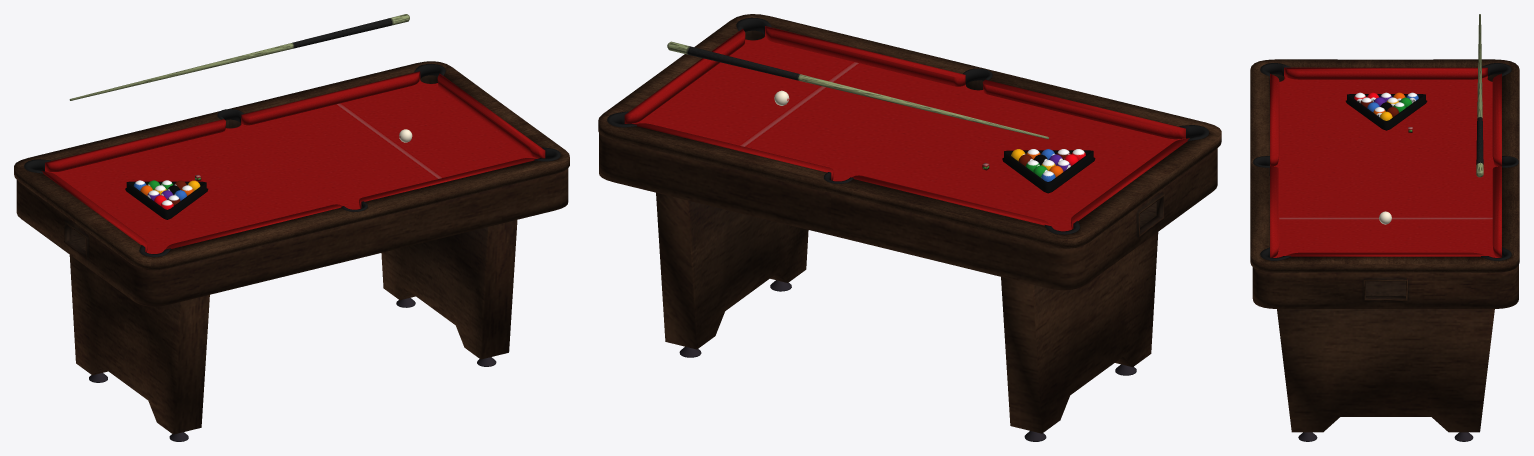
Rendered from pool_table.glb.
3 views of the same model, side by side, from view 1: azimuth 30°, elevation 25°; view 2: azimuth 150°, elevation 25°; view 3: azimuth 270°, elevation 25° (orthographic). The views are drawn at different scales.
Parts seen in each view (by area): view 1: Object_2; view 2: Object_2; view 3: Object_2.
Boxes of the visible parts, x1,y1,x2,y2 form: Object_2: (14,14,569,441); Object_2: (598,14,1221,441); Object_2: (1250,14,1519,441).
Bounding box in the file's own units: 2.41 × 1.49 × 1.34.
1 material, 1 textured.
